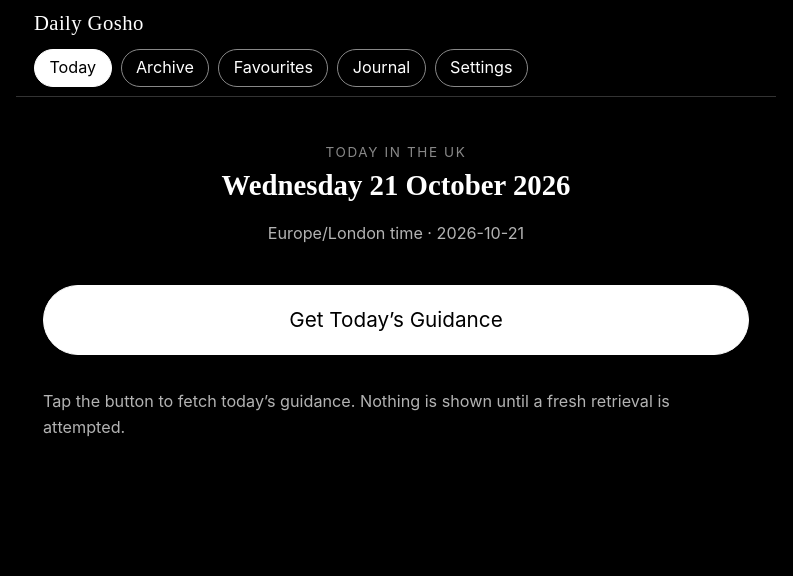
Test: Today screen › never shows a passage for another date as today’s
Click the button "Get Today’s Guidance". click: point(396, 320)
box: [43,285,749,354]
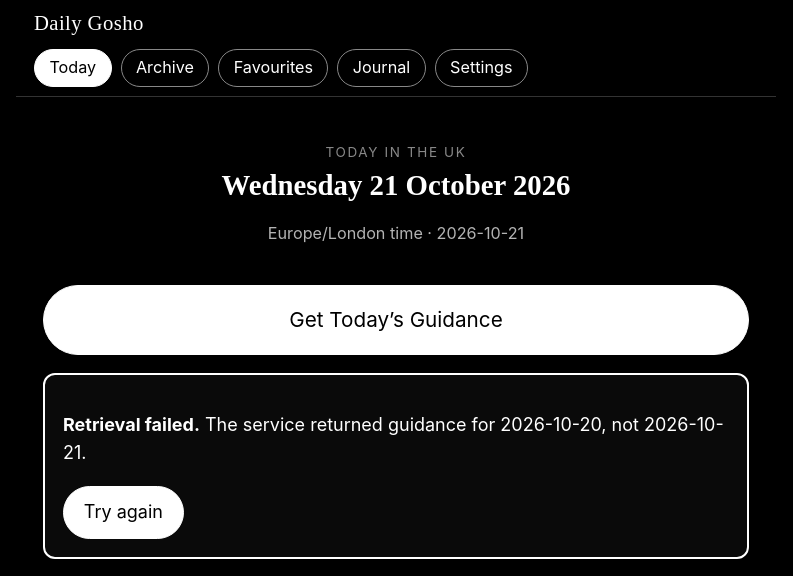
Check: the message shows "not 2026-10-21", box [63,414,724,463]
